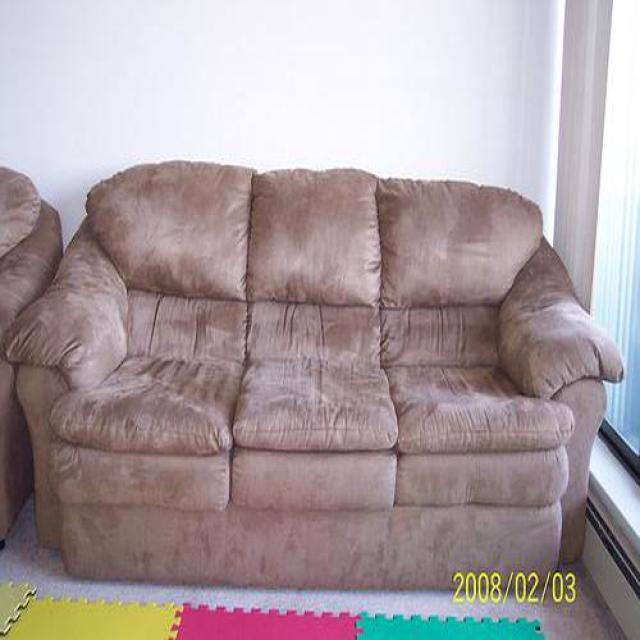sofa: (9, 161, 625, 616)
